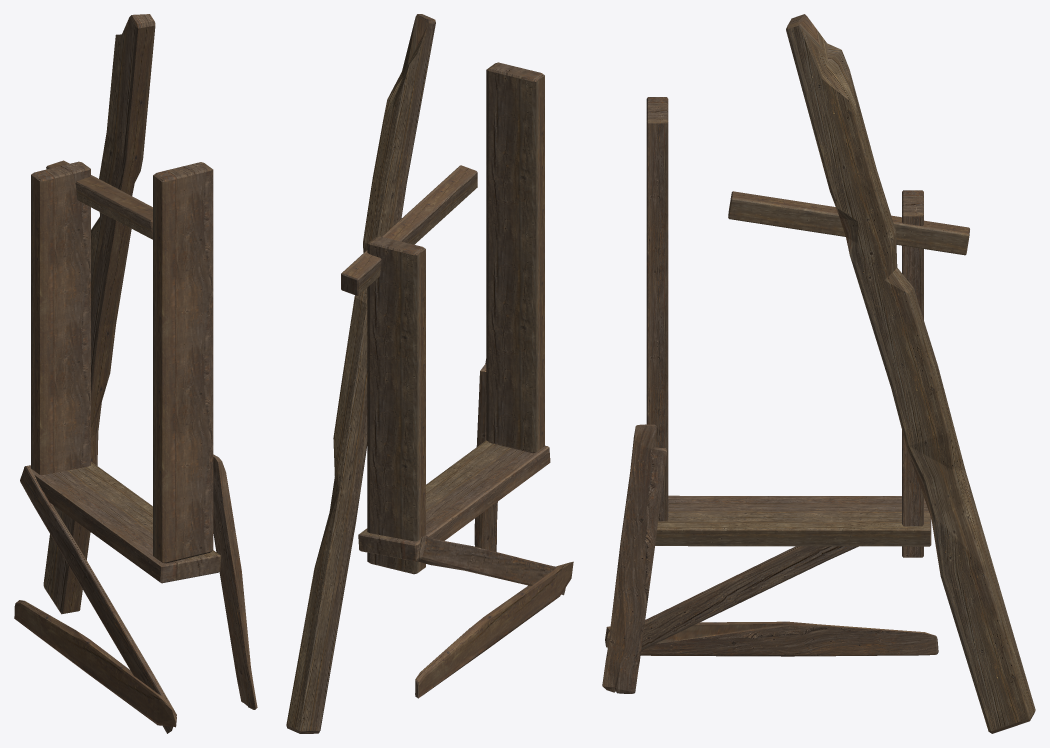
The model's file is SM_Asy_MazeWallAddons2m_03.fbx.
The picture shows the model from 3 angles, left to right: view 1: azimuth 30°, elevation 25°; view 2: azimuth 150°, elevation 25°; view 3: azimuth 270°, elevation 25°; orthographic projection. The views are drawn at different scales.
Visible parts, largest first — view 1: SM_Asy_MazeWallAddons2mVault_01.mo; view 2: SM_Asy_MazeWallAddons2mVault_01.mo; view 3: SM_Asy_MazeWallAddons2mVault_01.mo.
Part boxes in pixels (x1,y1,x2,y2): SM_Asy_MazeWallAddons2mVault_01.mo: [14, 14, 257, 733]; SM_Asy_MazeWallAddons2mVault_01.mo: [286, 14, 573, 733]; SM_Asy_MazeWallAddons2mVault_01.mo: [602, 14, 1035, 733].
Bounding box in the file's own units: 65.98 × 453 × 253.
